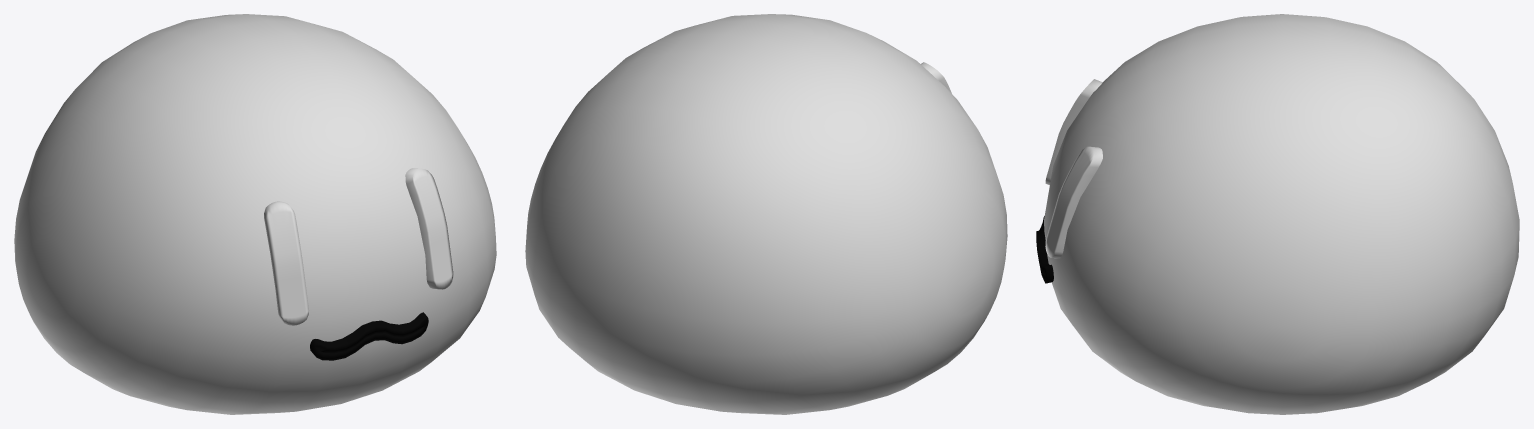
The model's file is Slime_heal.fbx.
3 views of the same model, side by side, from view 1: azimuth 30°, elevation 25°; view 2: azimuth 150°, elevation 25°; view 3: azimuth 270°, elevation 25° (orthographic).
Parts seen in each view (by area): view 1: Sphere001, Box001, Box006; view 2: Sphere001; view 3: Sphere001, Box001, Box006.
Boxes of the visible parts, x1,y1,x2,y2 form: Sphere001: (14,14,496,414); Box001: (264,168,453,325); Box006: (310,312,428,360); Sphere001: (525,14,1007,414); Sphere001: (1044,14,1519,414); Box001: (1045,79,1102,258); Box006: (1036,216,1053,283).
Size of the model in its own units: 56.87 by 57.19 by 43.08.
